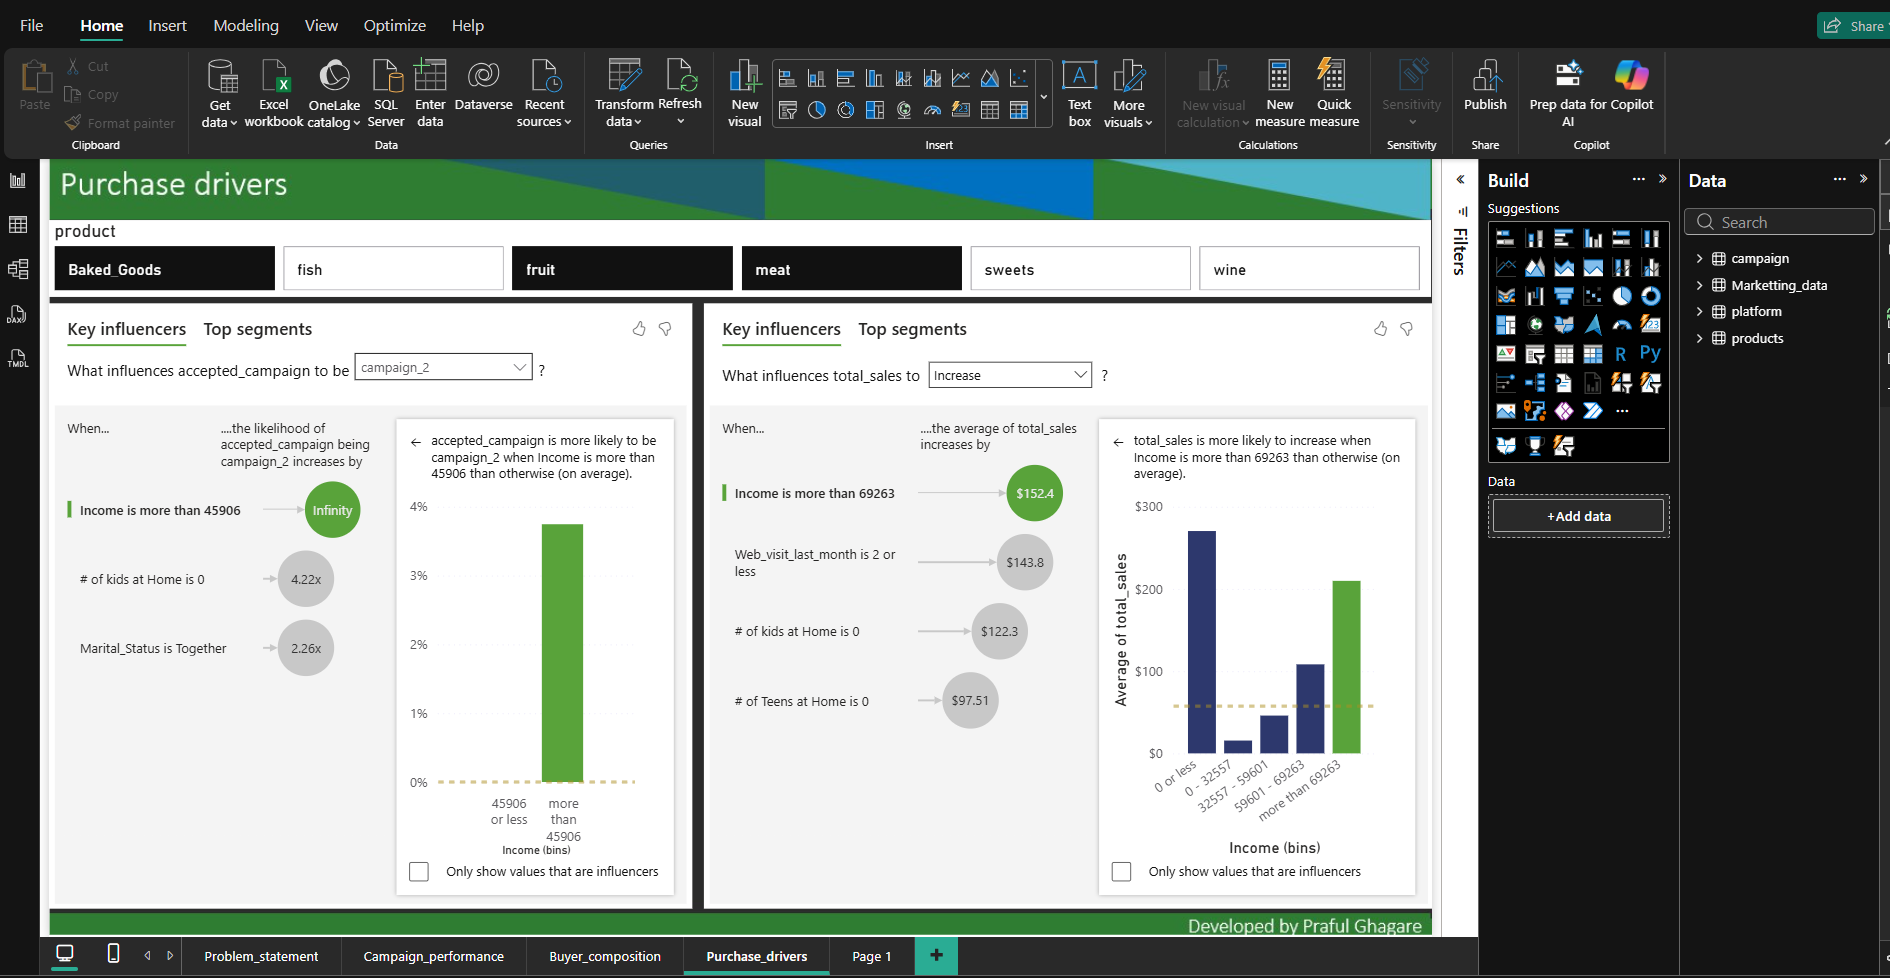

What the dashboard file says about the page in this screenshot:
{"tool":"powerbi","page":{"name":"Purchase_drivers","canvas":[1280,720],"ordinal":3},"visuals":[{"type":"keyDriversVisual","fields":{"Target":["campaign.campaign"],"ExplainBy":["Marketting_data.Age","Marketting_data. Income ","Marketting_data.Country","Marketting_data.Education","Marketting_data.Marital_Status","Marketting_data.Number_visit_websites","Marketting_data.Teenhome","Marketting_data.Kidhome"]},"box":[0,134,595.4,560.5],"z":0},{"type":"keyDriversVisual","fields":{"ExplainBy":["Marketting_data.Age","Marketting_data. Income ","Marketting_data.Country","Marketting_data.Education","Marketting_data.Marital_Status","Marketting_data.Number_visit_websites","Marketting_data.Teenhome","Marketting_data.Kidhome"],"Target":["products.total_sales"]},"box":[605.8,134,675.4,560.5],"z":1000},{"type":"advancedSlicerVisual","fields":{"Values":["products.product"]},"box":[0,56.5,1279.2,70.9],"z":2000}]}

Visuals, with their boxes on the page's 1280x720 design canvas (x1, y1, x2, y2). These are canvas units, not pixel positions in the 1890x978 screenshot, which may show the page scaled, cropped or inside an application window:
keyDriversVisual - campaign.campaign x Marketting_data.Age: box=[0, 134, 595, 694]
keyDriversVisual - Marketting_data.Age x Marketting_data. Income : box=[606, 134, 1281, 694]
advancedSlicerVisual - products.product: box=[0, 56, 1279, 127]
